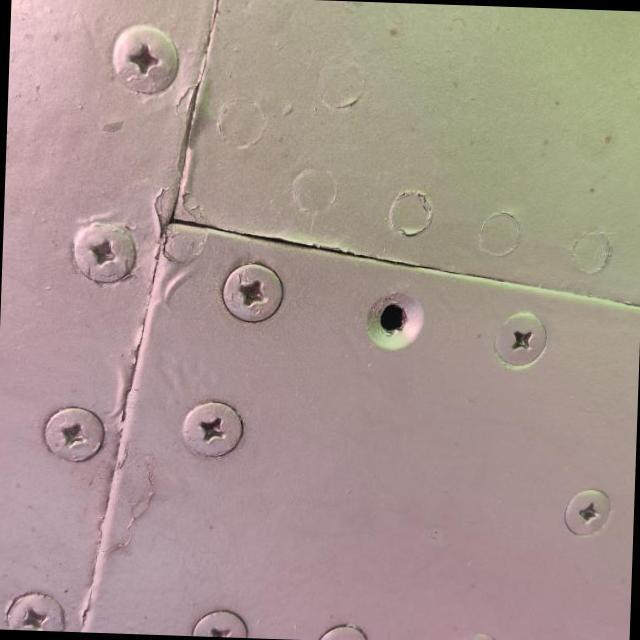Fastener Damage: (330, 256, 468, 386)
